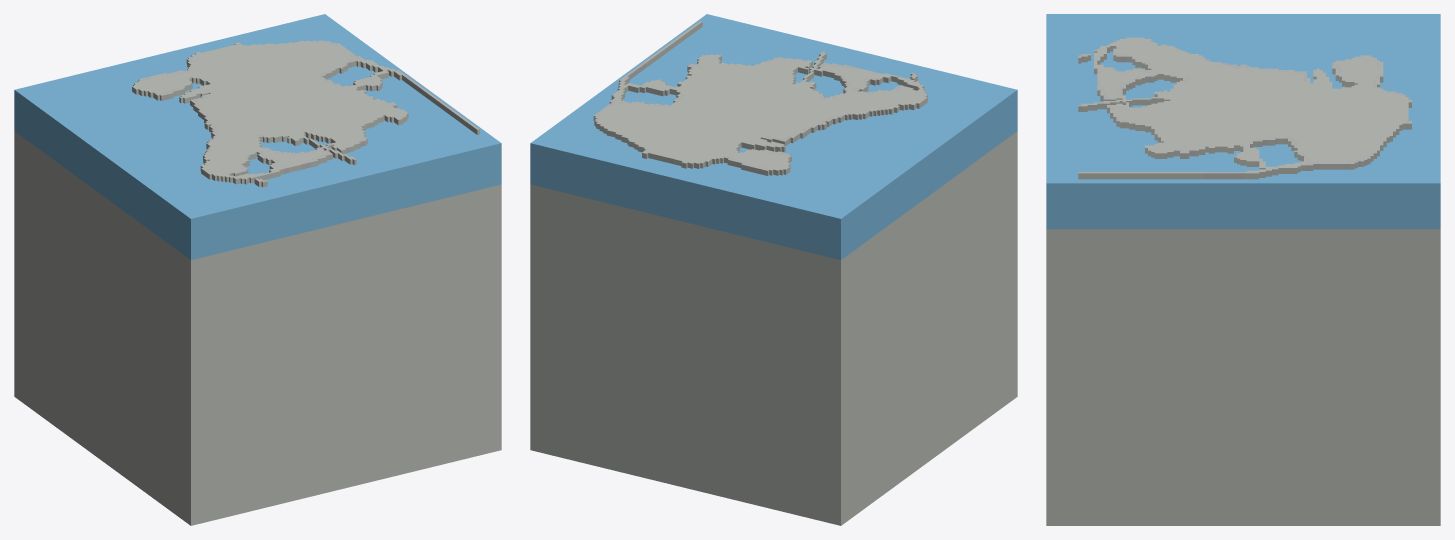
File: 200612a macau mini map.obj
The picture shows the model from 3 angles, left to right: view 1: azimuth 30°, elevation 25°; view 2: azimuth 150°, elevation 25°; view 3: azimuth 270°, elevation 25°; orthographic projection. The views are drawn at different scales.
Size of the model in its own units: 12.6 by 12.1 by 12.4.
Materials: 1 (1 with a texture image).
